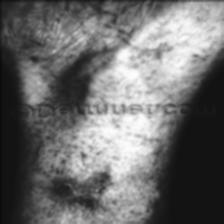Potentially Malignant Skin Tumors: (42, 168, 112, 206), (134, 208, 166, 224)
